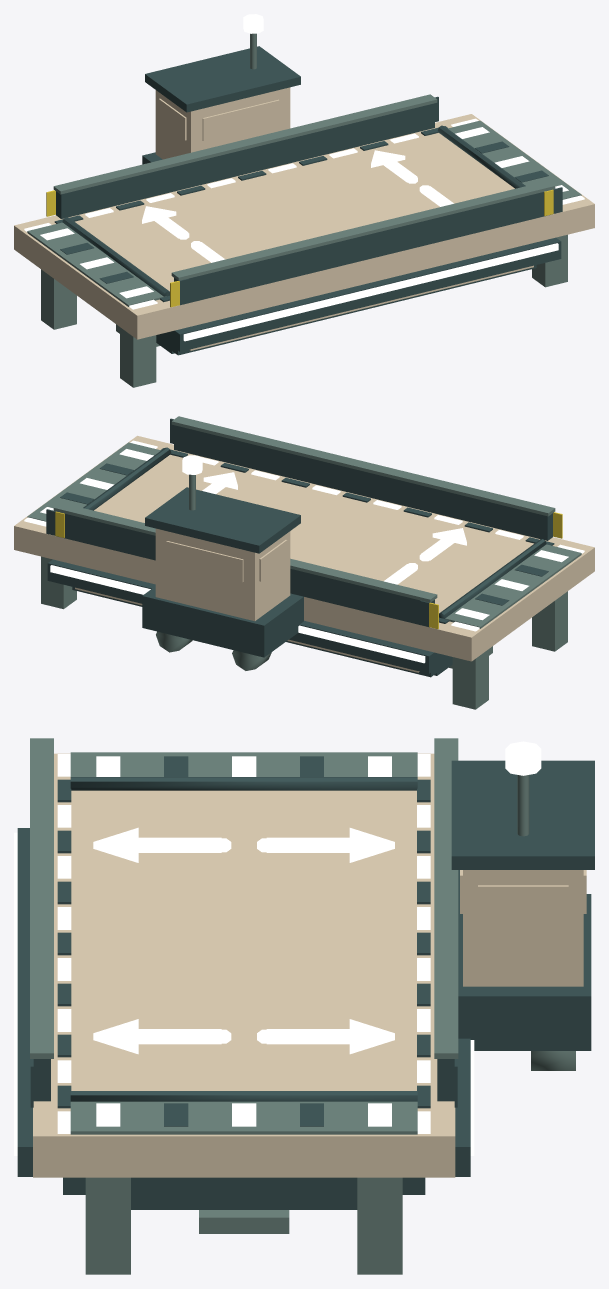
File: Deck_Ferry_v4_6_lab2.glb
3 renders of one model, top to bottom at view 1: azimuth 30°, elevation 25°; view 2: azimuth 150°, elevation 25°; view 3: azimuth 270°, elevation 25°, orthographic. The views are drawn at different scales.
Parts seen in each view (by area): view 1: Deck_Ferry_v4_6; view 2: Deck_Ferry_v4_6; view 3: Deck_Ferry_v4_6.
Part boxes in pixels (box(x1,y1,x2,y2)): Deck_Ferry_v4_6: box(14, 14, 594, 387); Deck_Ferry_v4_6: box(14, 416, 594, 709); Deck_Ferry_v4_6: box(14, 738, 594, 1274).
Size of the model in its own units: 6 by 2.7 by 3.85.
